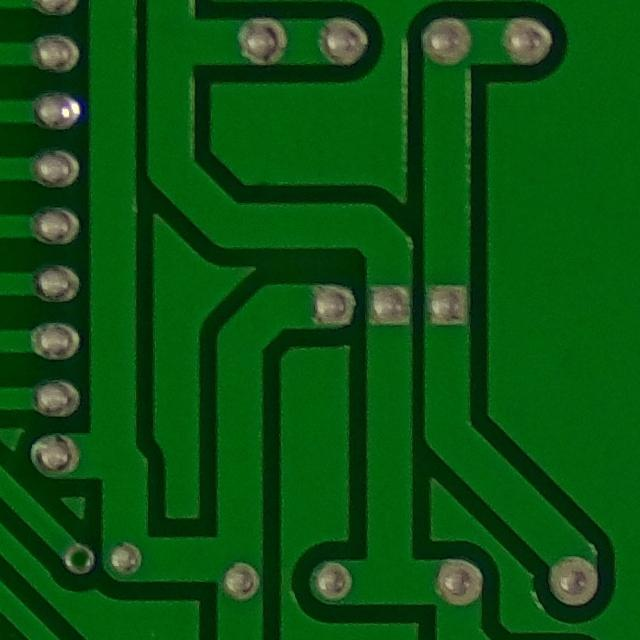missing_hole: (50, 531, 104, 584)
